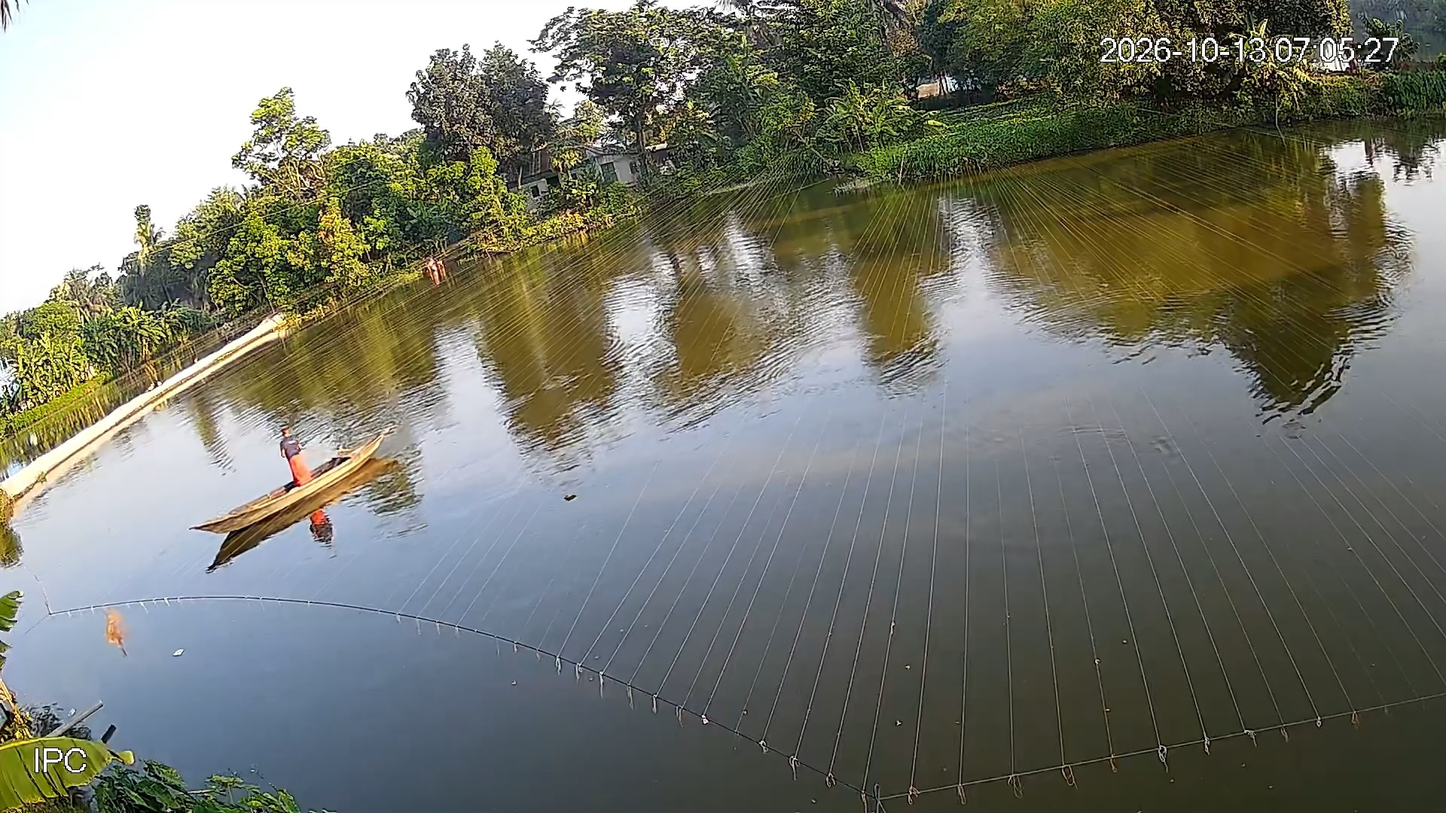Boat: (186, 429, 390, 539)
Human Feeder: (272, 421, 314, 491)
